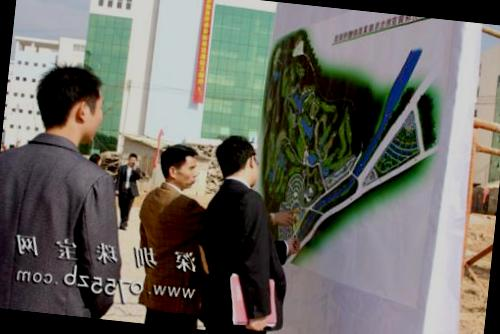no_helmet: (23, 61, 116, 152), (208, 131, 264, 192), (154, 137, 201, 194), (126, 150, 140, 166)
